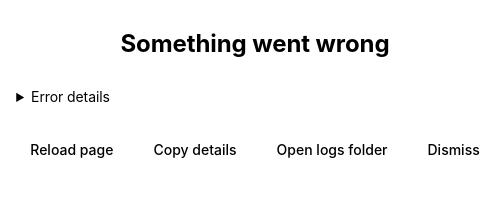
Test: ErrorBoundary › offers desktop logs and reports a reveal failure inline
This screenshot has width=497, height=198.
Click the button with test id "error-boundary-open-logs" at x=332, y=149, box [263,131,402,167]
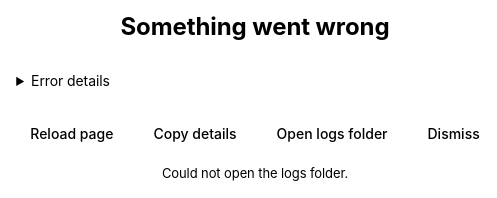
Expected: the message with test id "error-boundary-action-error" shows "Could not open the logs folder", [162,165,348,181]
